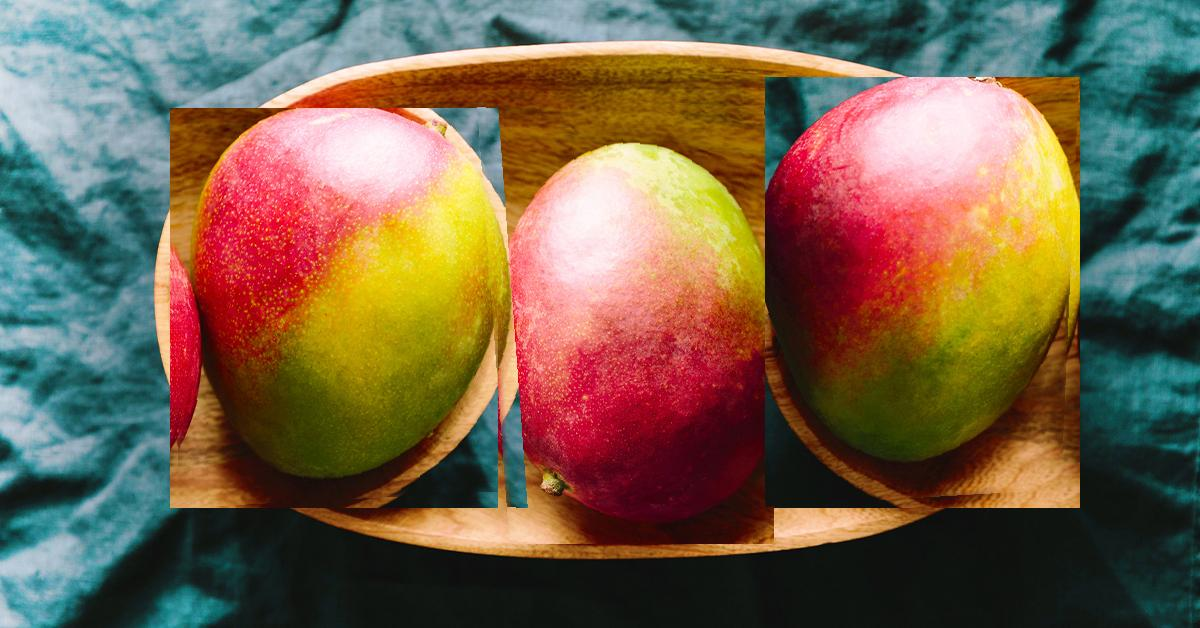Mango Semifresh: (765, 77, 1080, 508), (477, 92, 775, 545), (170, 108, 498, 508)
